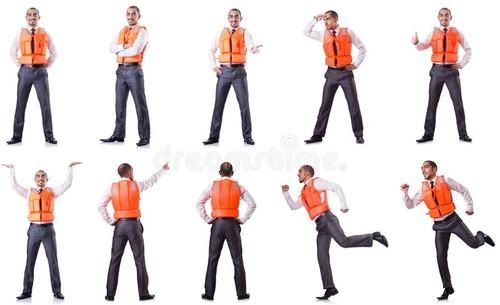reflective_clothes: (418, 171, 459, 222), (112, 21, 150, 70), (318, 23, 356, 71), (15, 20, 51, 70), (208, 174, 244, 223), (109, 172, 145, 221), (298, 176, 334, 224), (215, 21, 251, 68), (429, 23, 464, 68), (25, 183, 59, 228)
